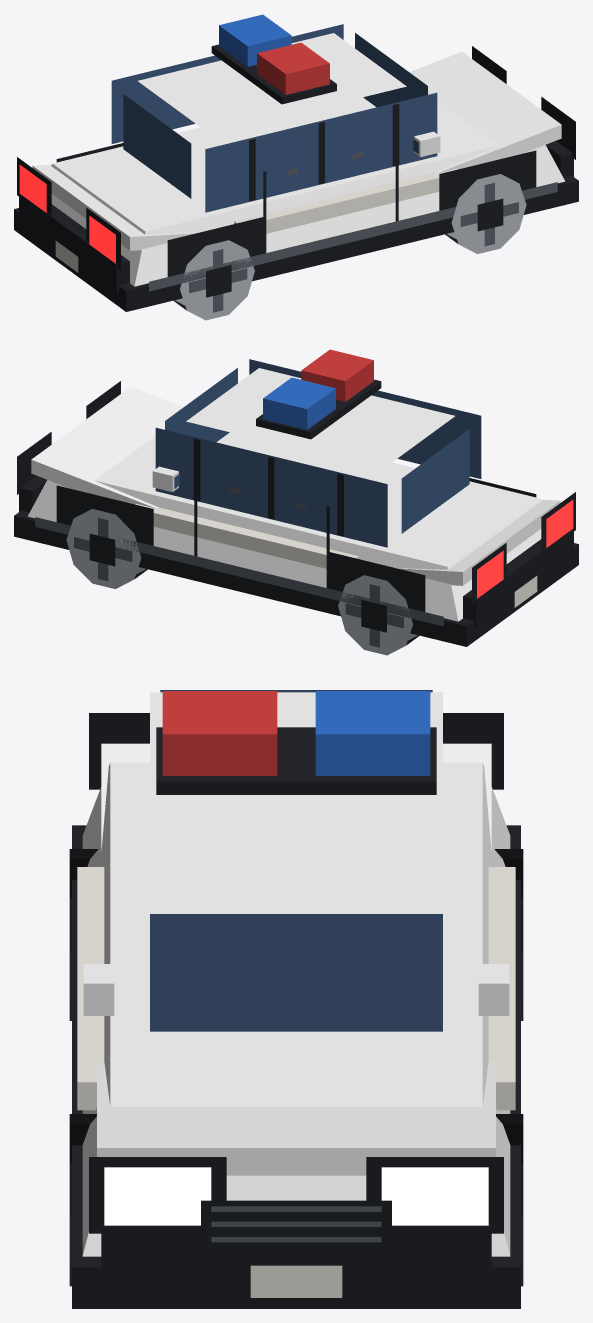
Rendered from car_police.glb.
3 renders of one model, top to bottom at view 1: azimuth 30°, elevation 25°; view 2: azimuth 150°, elevation 25°; view 3: azimuth 270°, elevation 25°, orthographic. The views are drawn at different scales.
Visible parts, largest first — view 1: car_police; view 2: car_police; view 3: car_police.
Part boxes in pixels (<box>): car_police: <box>14,14,578,320</box>; car_police: <box>14,349,578,655</box>; car_police: <box>69,690,523,1308</box>.
Bounding box in the file's own units: 0.4161 × 0.1765 × 0.1824.
